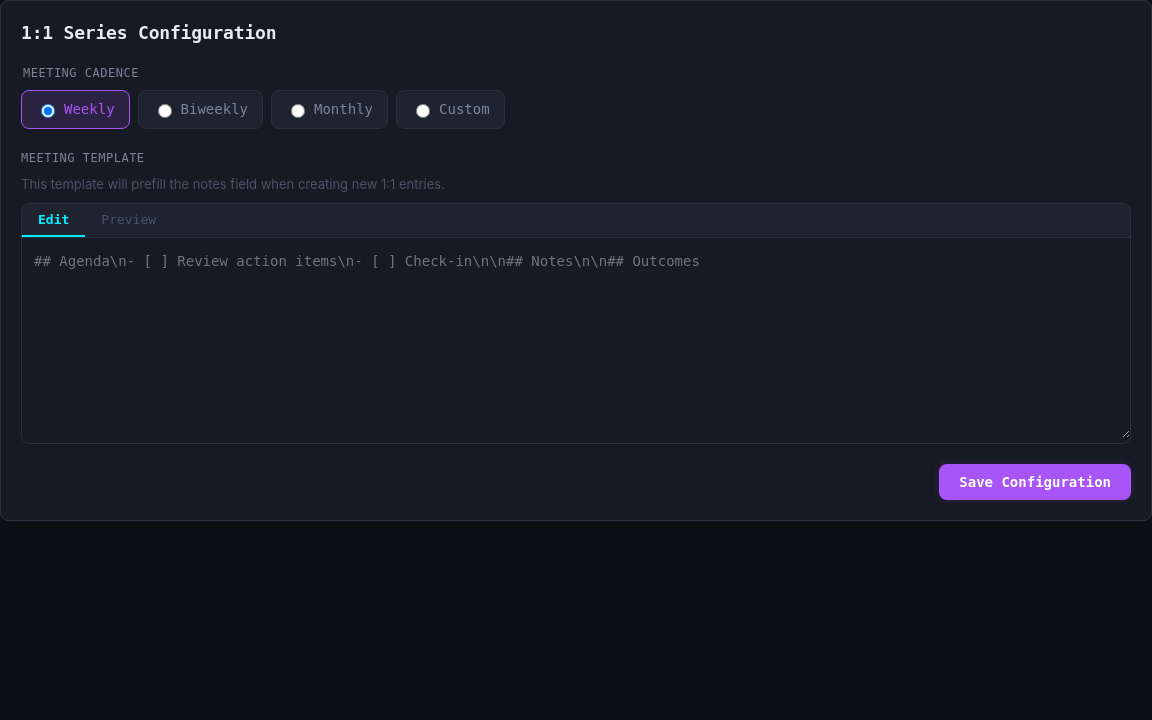
Test case: SeriesConfigPanel › shows error when CUSTOM cadence has no interval
Note: Select CUSTOM without entering interval
Click the radio button with test id "cadence-option-custom" at x=423, y=111, box [416, 104, 430, 118]
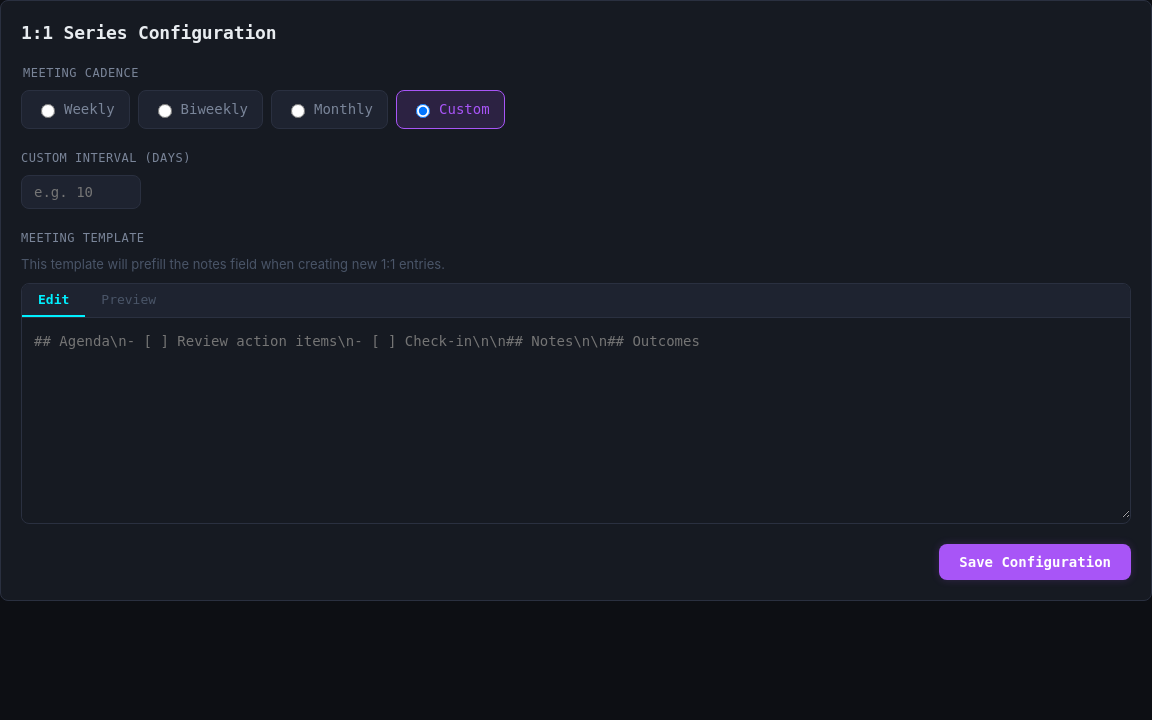
Click the button with test id "series-config-save" at x=1035, y=562, box [939, 544, 1131, 580]
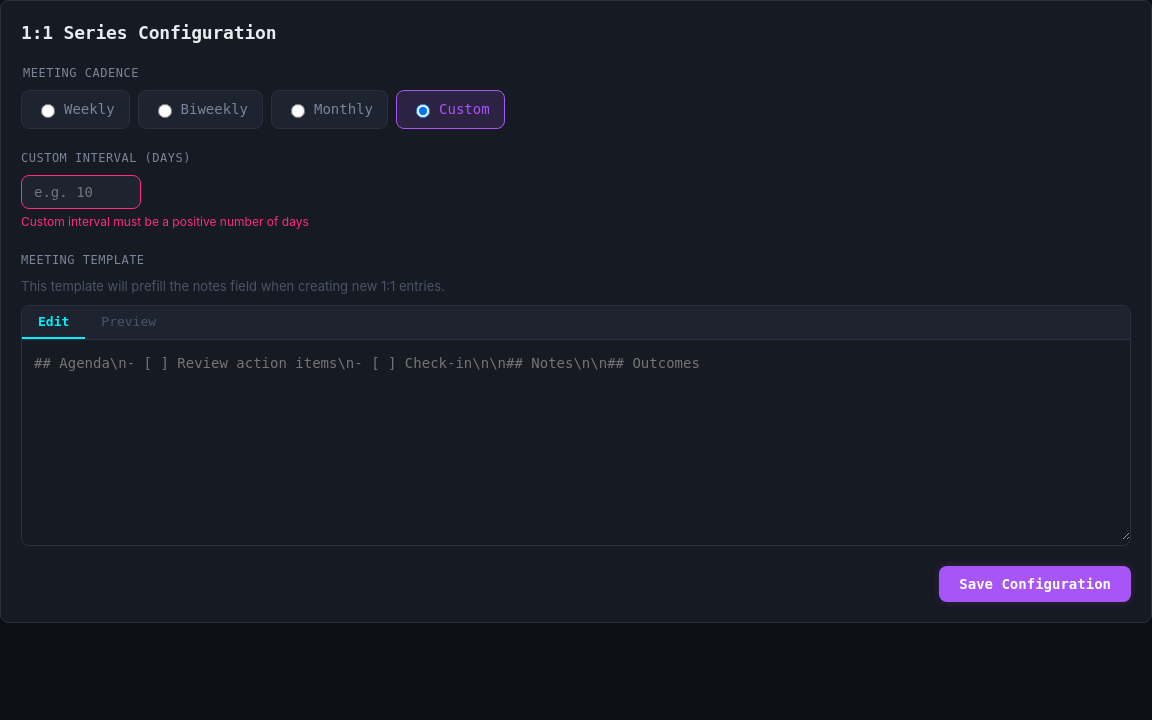
expect the message "Custom interval must be a positive number of days" is shown: met, box [21, 214, 309, 229]
